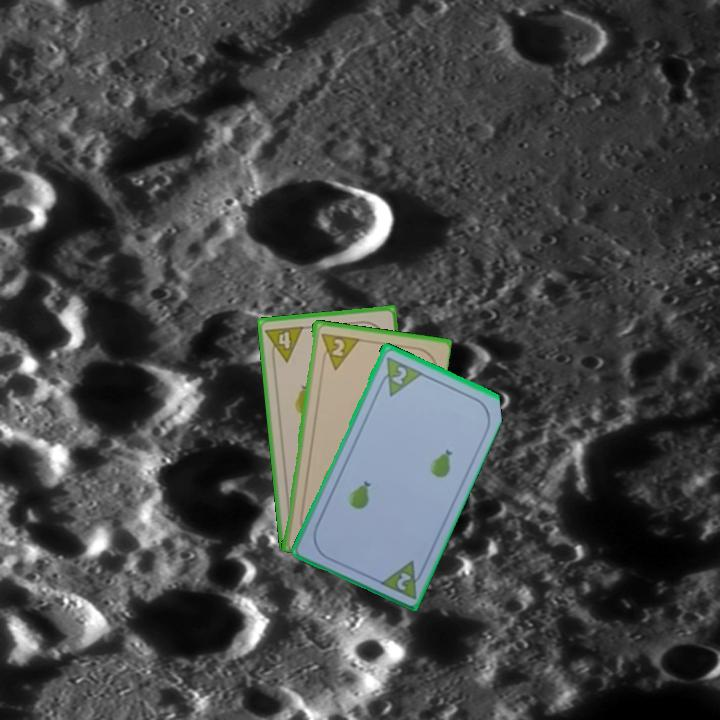2p: (374, 352, 424, 399), (317, 329, 360, 372), (393, 568, 414, 593)
4p: (262, 322, 306, 366)
